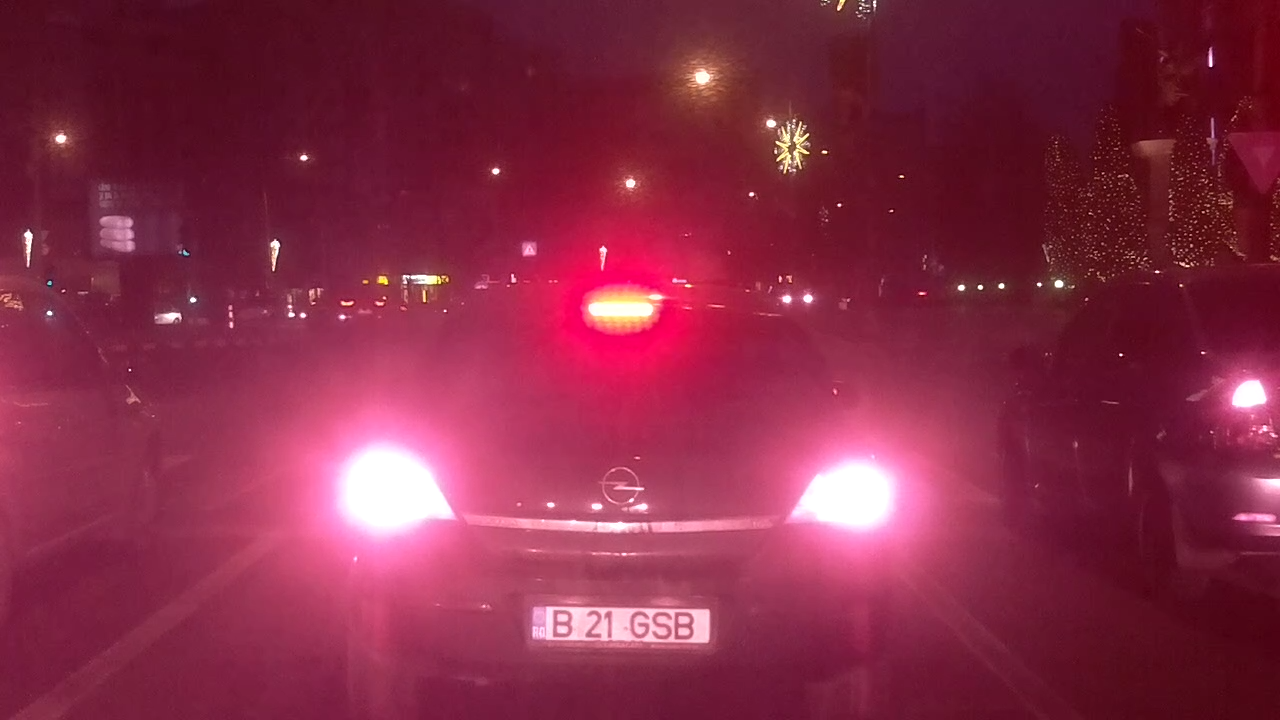license-plate: (525, 601, 715, 646)
